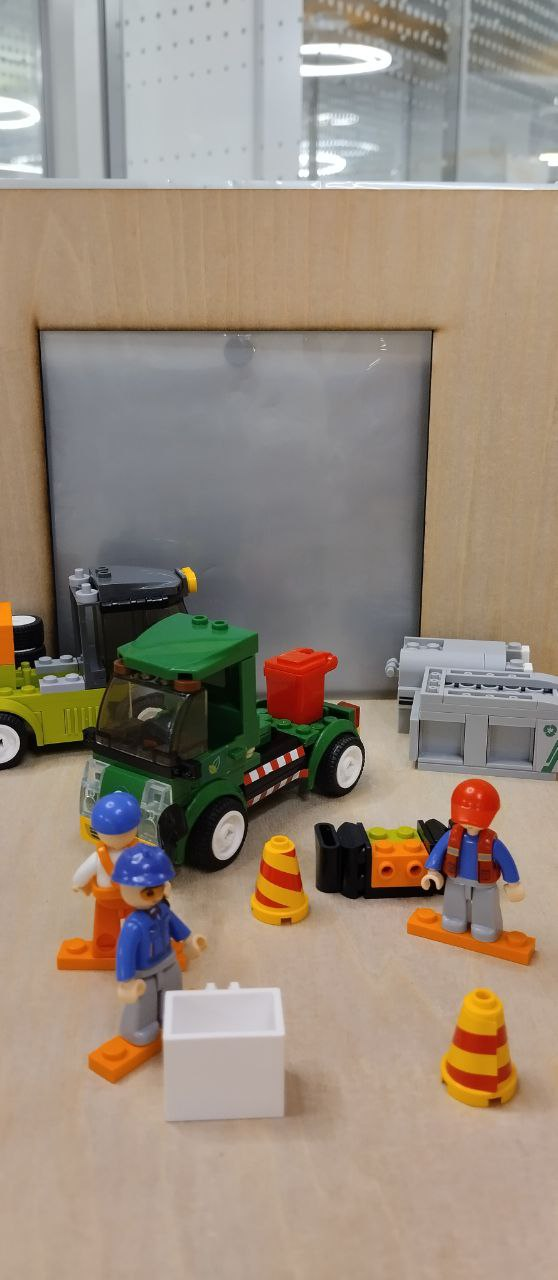Cone: (440, 985, 522, 1112), (253, 835, 308, 926)
Crane: (1, 563, 201, 770)
Object Black: (314, 822, 481, 898)
Object Red: (264, 645, 338, 720)
Object white: (160, 976, 286, 1128)
Truck: (74, 614, 360, 866)
